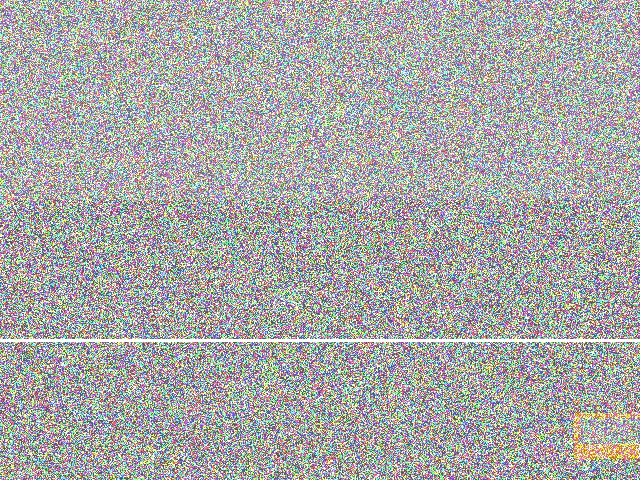truck: (409, 87, 579, 211)
